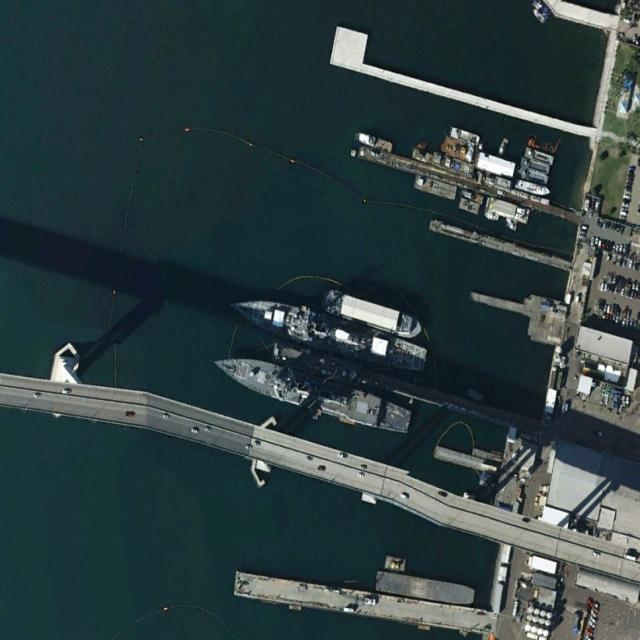Destroyer: (210, 343, 414, 440), (225, 286, 428, 380)
Other Ship: (322, 287, 424, 343)
